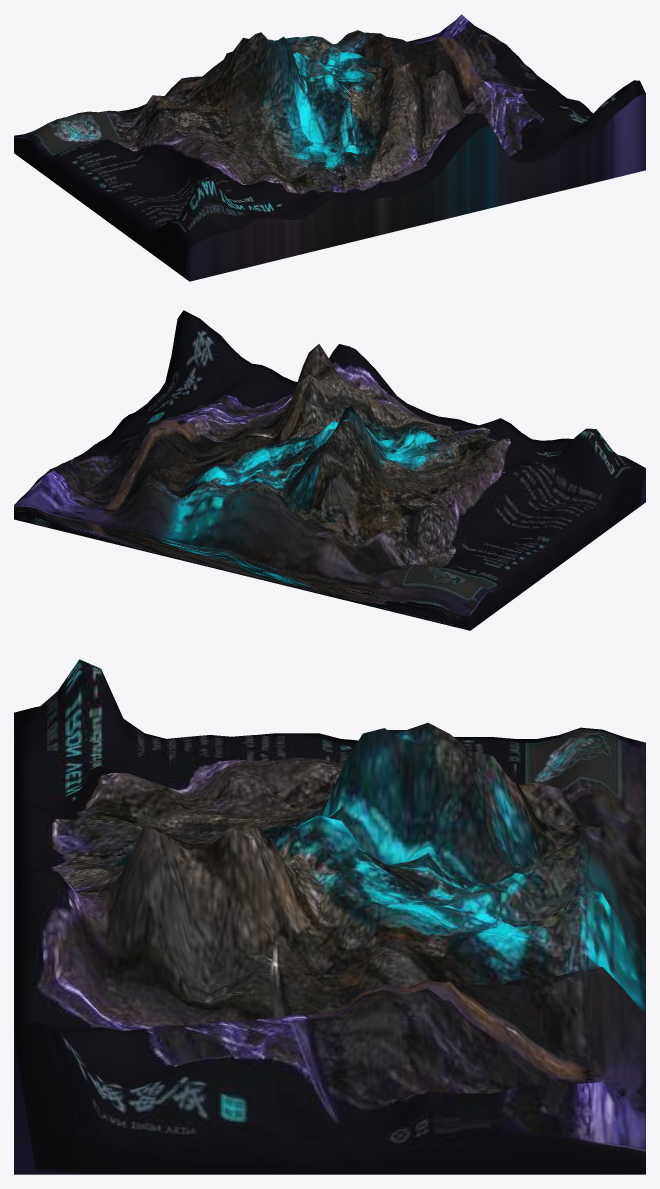
The model's file is ORE_01_Cyan_Iron_Vein.glb.
3 views of the same model, one above another, from view 1: azimuth 30°, elevation 25°; view 2: azimuth 150°, elevation 25°; view 3: azimuth 270°, elevation 25° (orthographic). The views are drawn at different scales.
Visible parts, largest first — view 1: ORE_01_Cyan_Iron_Vein; view 2: ORE_01_Cyan_Iron_Vein; view 3: ORE_01_Cyan_Iron_Vein.
Boxes of the visible parts, x1=… form: ORE_01_Cyan_Iron_Vein: x1=14, y1=14, x2=645, y2=281; ORE_01_Cyan_Iron_Vein: x1=14, y1=310, x2=645, y2=630; ORE_01_Cyan_Iron_Vein: x1=14, y1=659, x2=645, y2=1174.
Bounding box in the file's own units: 2 × 0.51 × 1.33.
1 material, 1 textured.
